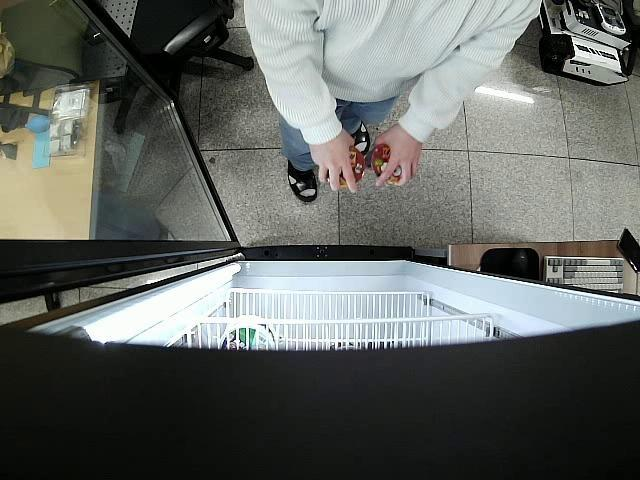06_nuguri_S: (374, 140, 412, 186), (324, 145, 364, 188)
